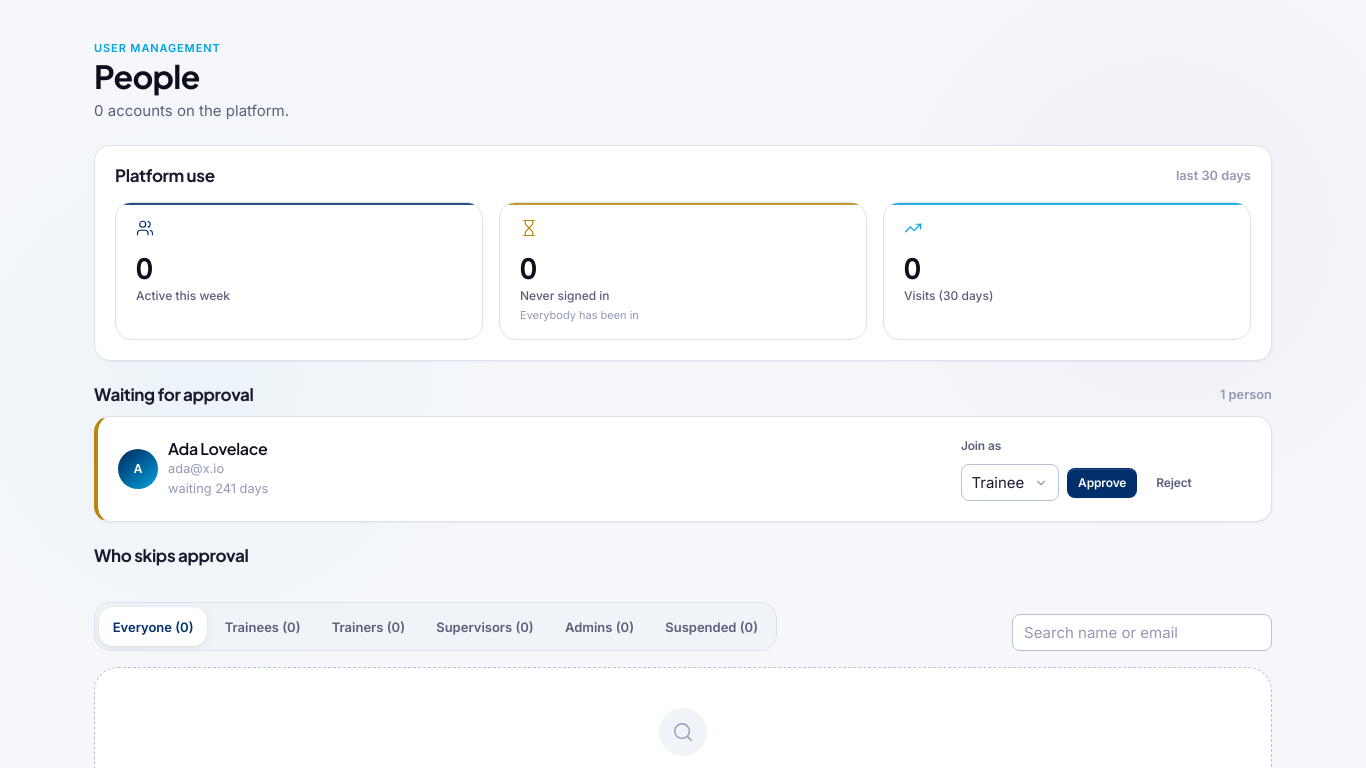
Test: confirmation › warns that rejection is permanent once the confirm step is showing
Expected: the text "Rejecting is permanent" is not shown
Click the button "Reject" at {"x": 1174, "y": 483}, box [1145,468,1203,498]
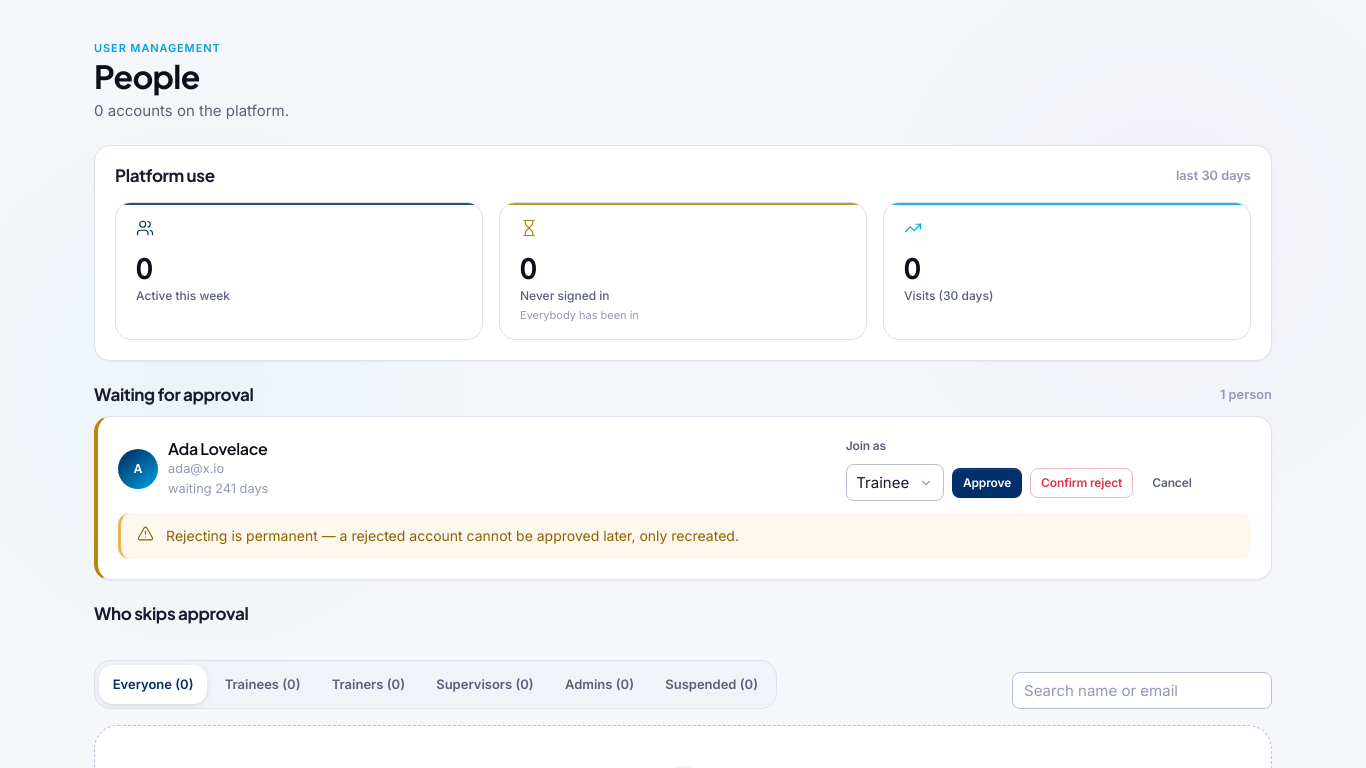
Expected: the text "Rejecting is permanent" is shown, [166,528,739,544]
